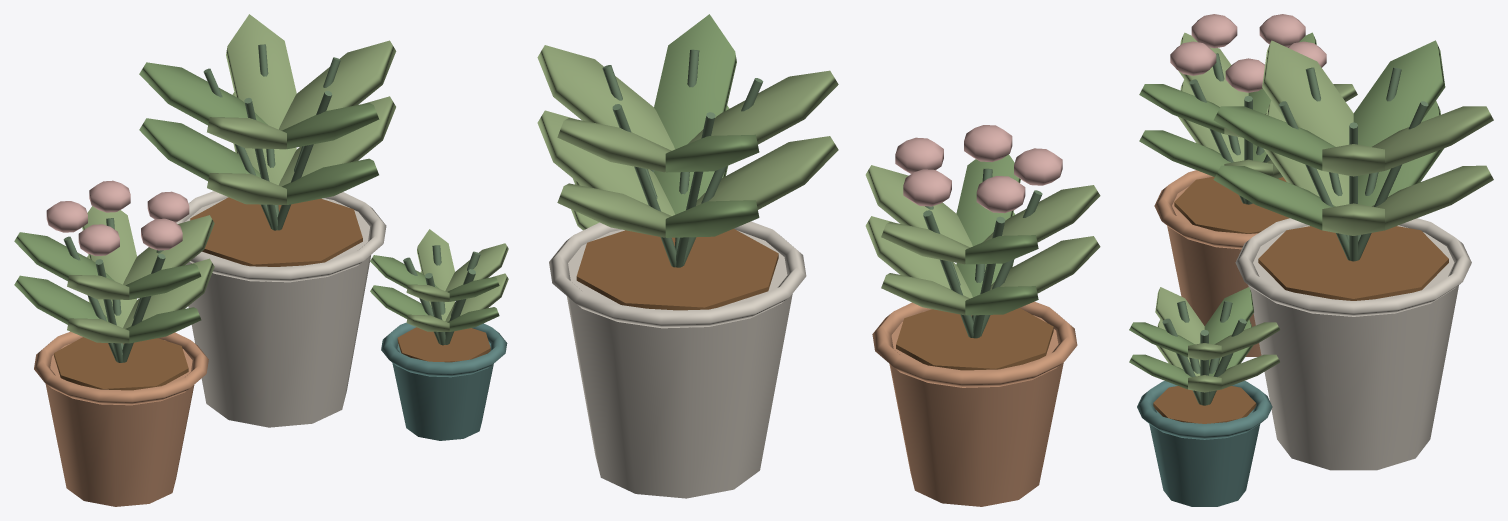
Rendered from komachi-potted-plants.glb.
3 renders of one model, left to right at view 1: azimuth 30°, elevation 25°; view 2: azimuth 150°, elevation 25°; view 3: azimuth 270°, elevation 25°, orthographic. The views are drawn at different scales.
Parts seen in each view (by area): view 1: Potted_Plants; view 2: Potted_Plants; view 3: Potted_Plants.
Part boxes in pixels (box(x1,y1,x2,y2)): Potted_Plants: box(14, 14, 508, 506); Potted_Plants: box(537, 14, 1100, 506); Potted_Plants: box(1129, 14, 1493, 506).
Bounding box in the file's own units: 0.2494 × 0.177 × 0.1666.
